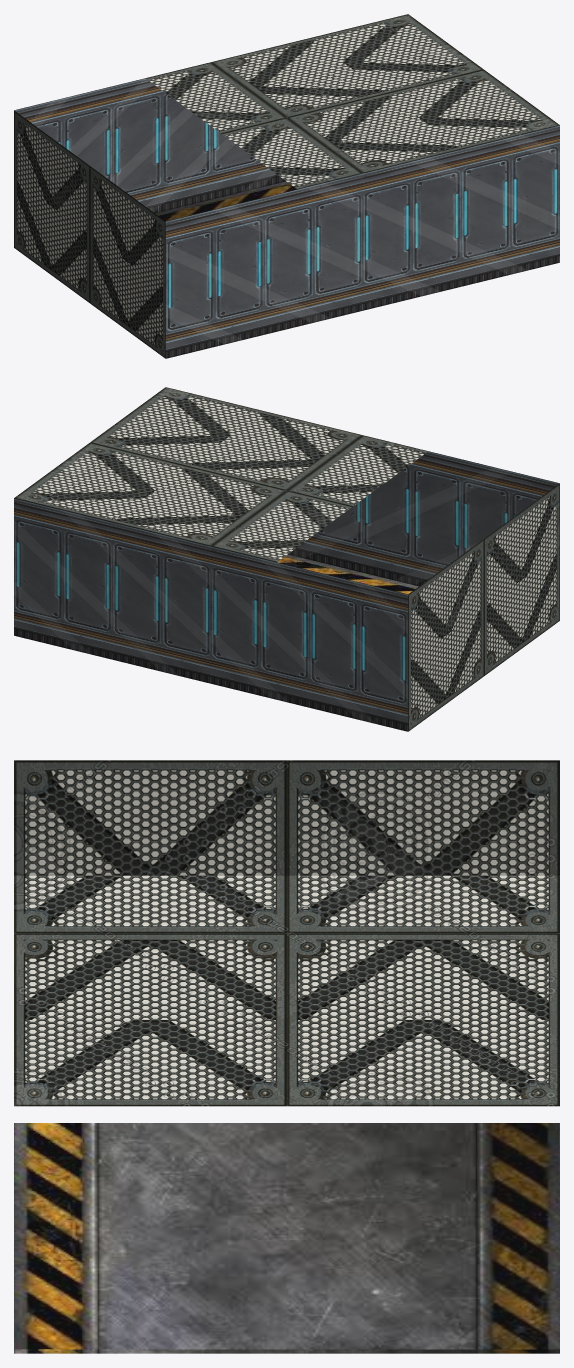
Rendered from upAndDownPiece642.fbx.
3 renders of one model, top to bottom at view 1: azimuth 30°, elevation 25°; view 2: azimuth 150°, elevation 25°; view 3: azimuth 270°, elevation 25°, orthographic. The views are drawn at different scales.
Parts seen in each view (by area): view 1: Plane.001, Plane.003, Plane, Plane.002, Plane.000; view 2: Plane.002, Plane.003, Plane, Plane.001, Plane.000; view 3: Plane.003, Plane.000, Plane.
Part boxes in pixels (x1,y1,x2,y2): Plane.001: (165,125,559,358); Plane.003: (145,14,559,189); Plane: (14,110,165,358); Plane.002: (14,78,285,213); Plane.000: (155,181,296,221); Plane.002: (14,498,408,731); Plane.003: (14,387,428,562); Plane: (408,483,559,731); Plane.001: (288,451,559,586); Plane.000: (277,554,418,594); Plane.003: (14,875,559,1106); Plane.000: (14,1123,559,1353); Plane: (14,760,559,875).
Size of the model in its own units: 1200 by 400 by 800.
